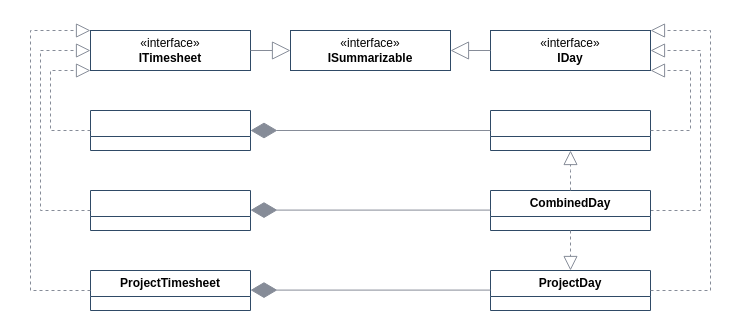
The diagram is 742 pixels wide and 334 high, and some of its shapes have lost their labels. The centre of each missing label's shape, as x and y in pixels:
"AttendanceDay" belongs at point (570, 130).
"AttendanceTimesheet" belongs at point (170, 130).
"CombinedTimesheet" belongs at point (170, 210).
